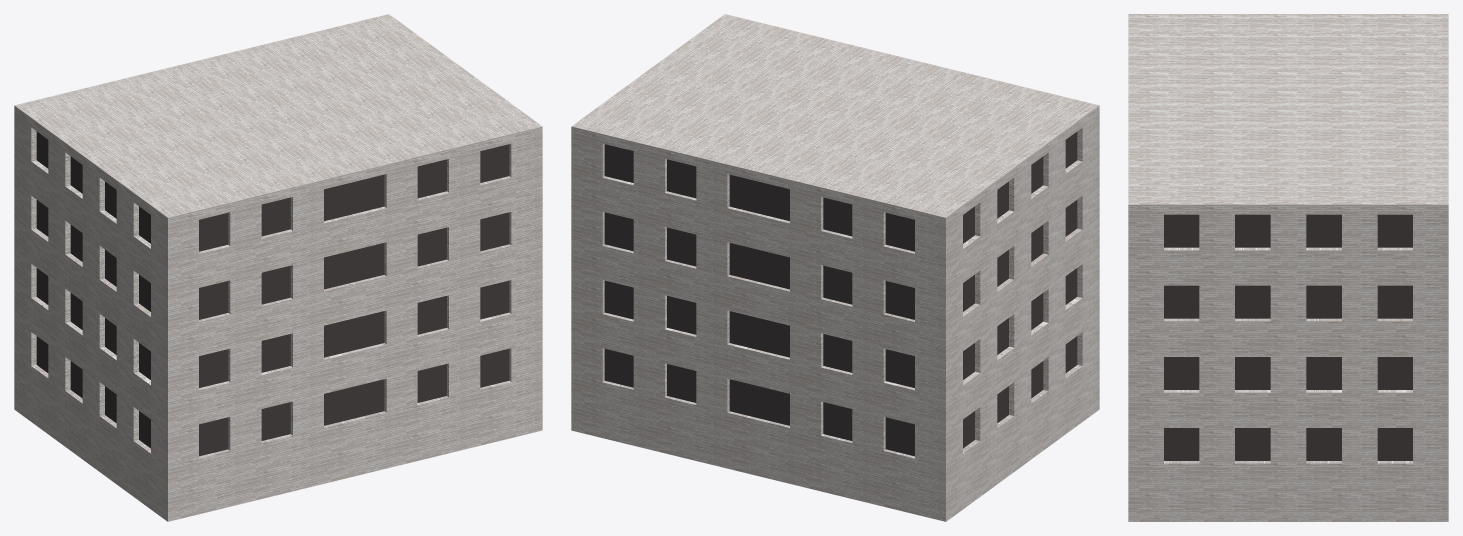
The model's file is Building_BigFake.glb.
3 views of the same model, side by side, from view 1: azimuth 30°, elevation 25°; view 2: azimuth 150°, elevation 25°; view 3: azimuth 270°, elevation 25° (orthographic). The views are drawn at different scales.
Parts seen in each view (by area): view 1: BigFake; view 2: BigFake; view 3: BigFake.
Part boxes in pixels (<box>): BigFake: <box>14,14,542,521</box>; BigFake: <box>571,14,1099,521</box>; BigFake: <box>1128,14,1448,521</box>.
Bounding box in the file's own units: 51.11 × 39.63 × 36.29.
2 materials, 1 textured.
